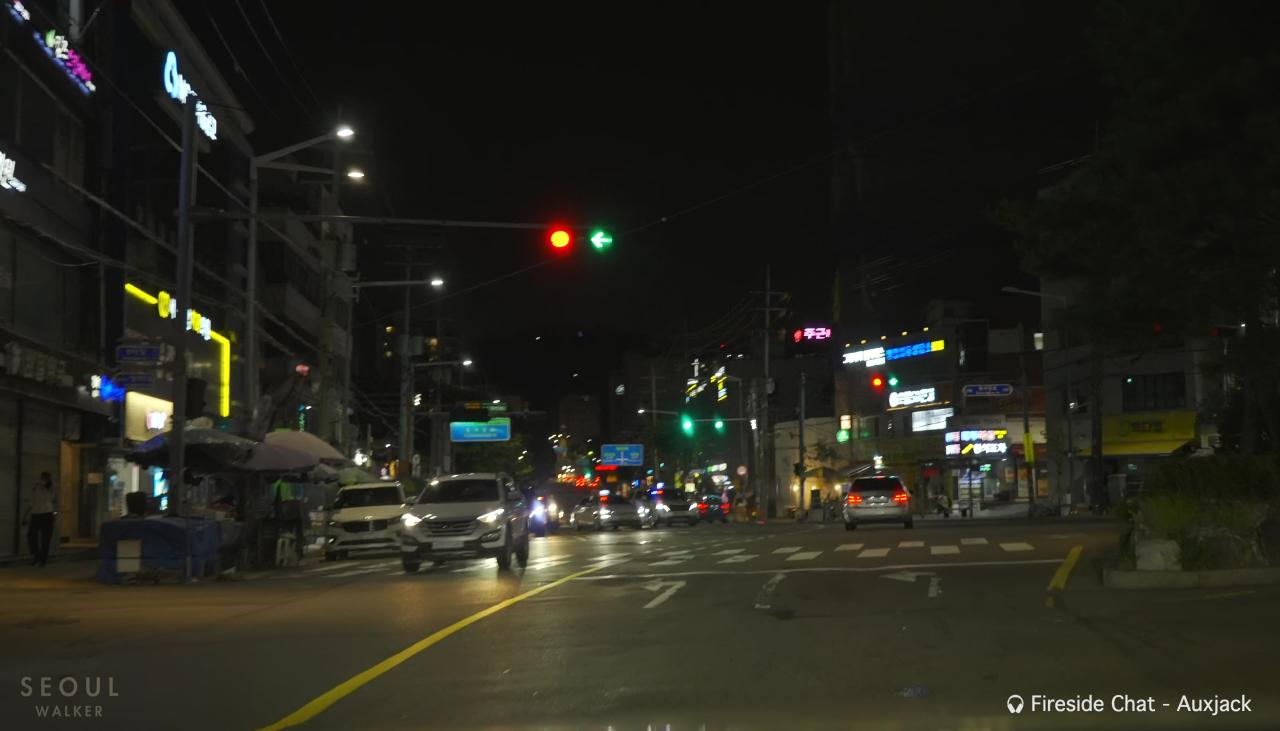Left turn: (587, 230, 614, 252)
Red Light: (549, 227, 571, 249)
